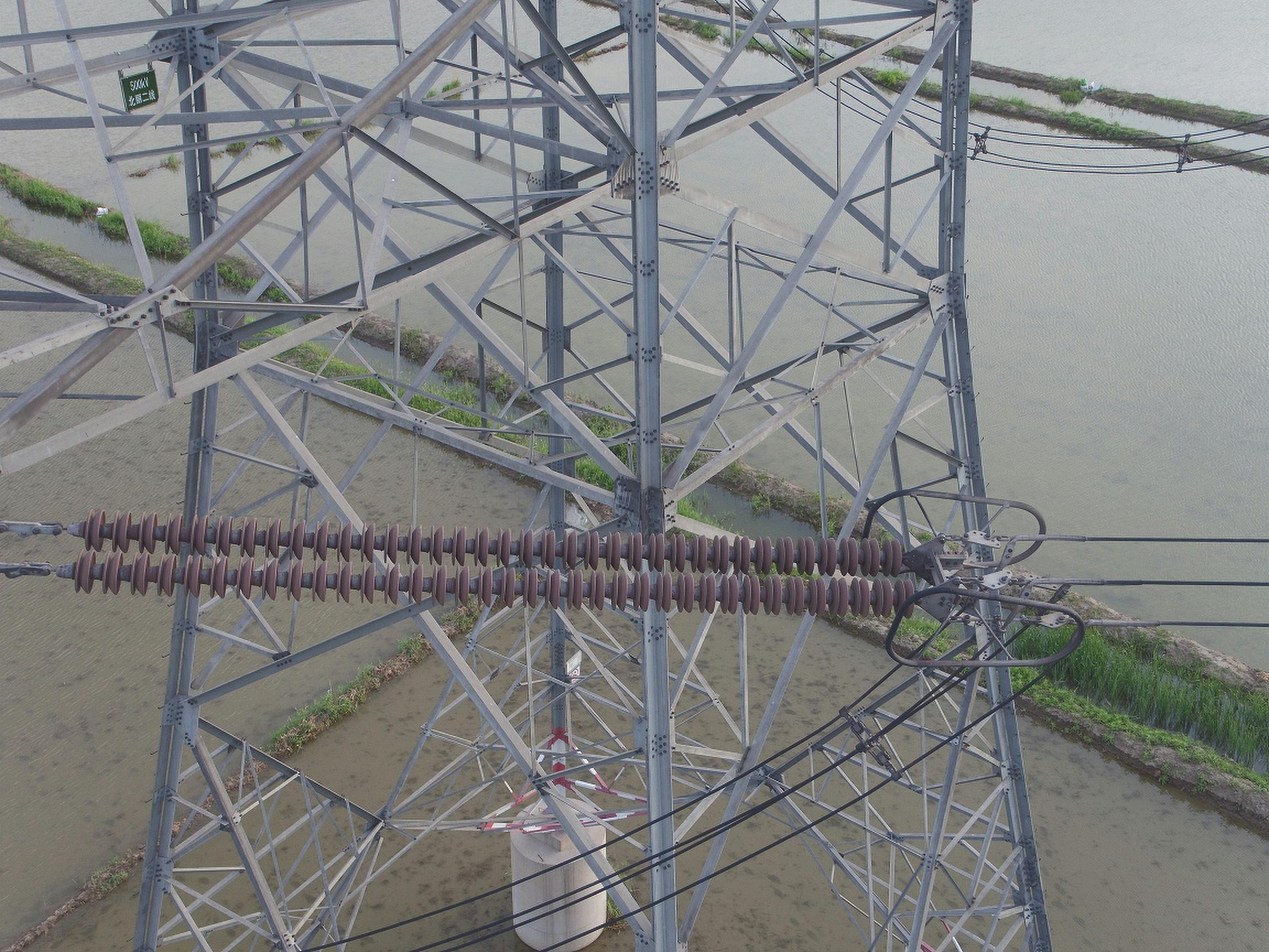insulator: (64, 504, 920, 624)
